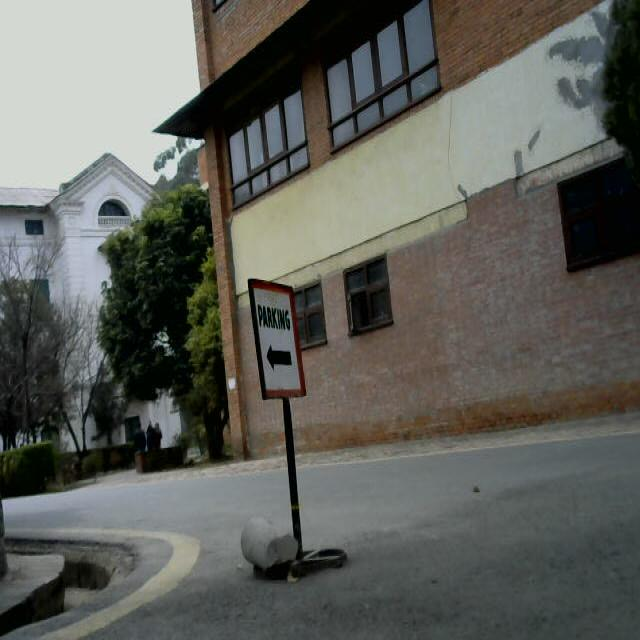Buildings: (202, 0, 634, 404)
Parking: (233, 275, 360, 589)
Road: (15, 446, 640, 640)
trees: (100, 175, 234, 481), (0, 231, 89, 480)
